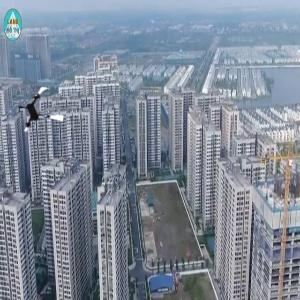drone: (15, 86, 69, 140)
